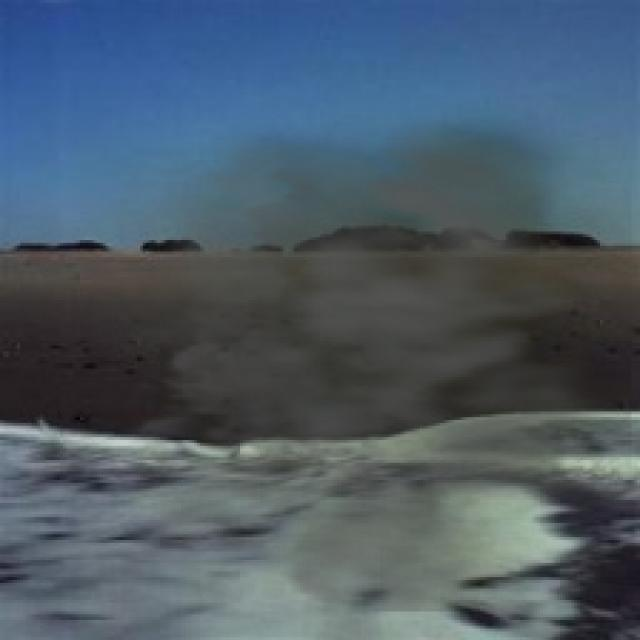smoke: (69, 94, 632, 612)
